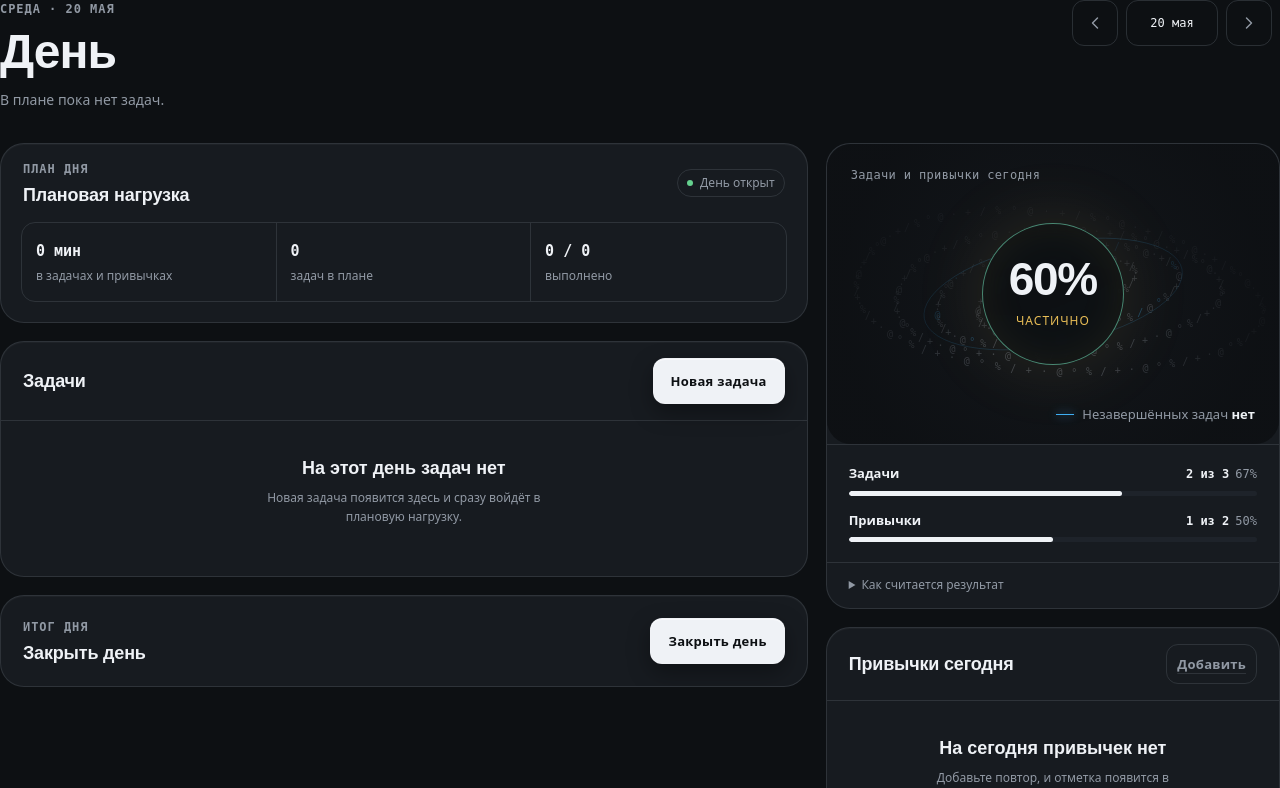
Scenario: DayPage › offers task creation from the tasks card header
The image size is (1280, 788).
Click the button with aria-label "добавить задачу" at (719, 381), box [652, 358, 785, 404]
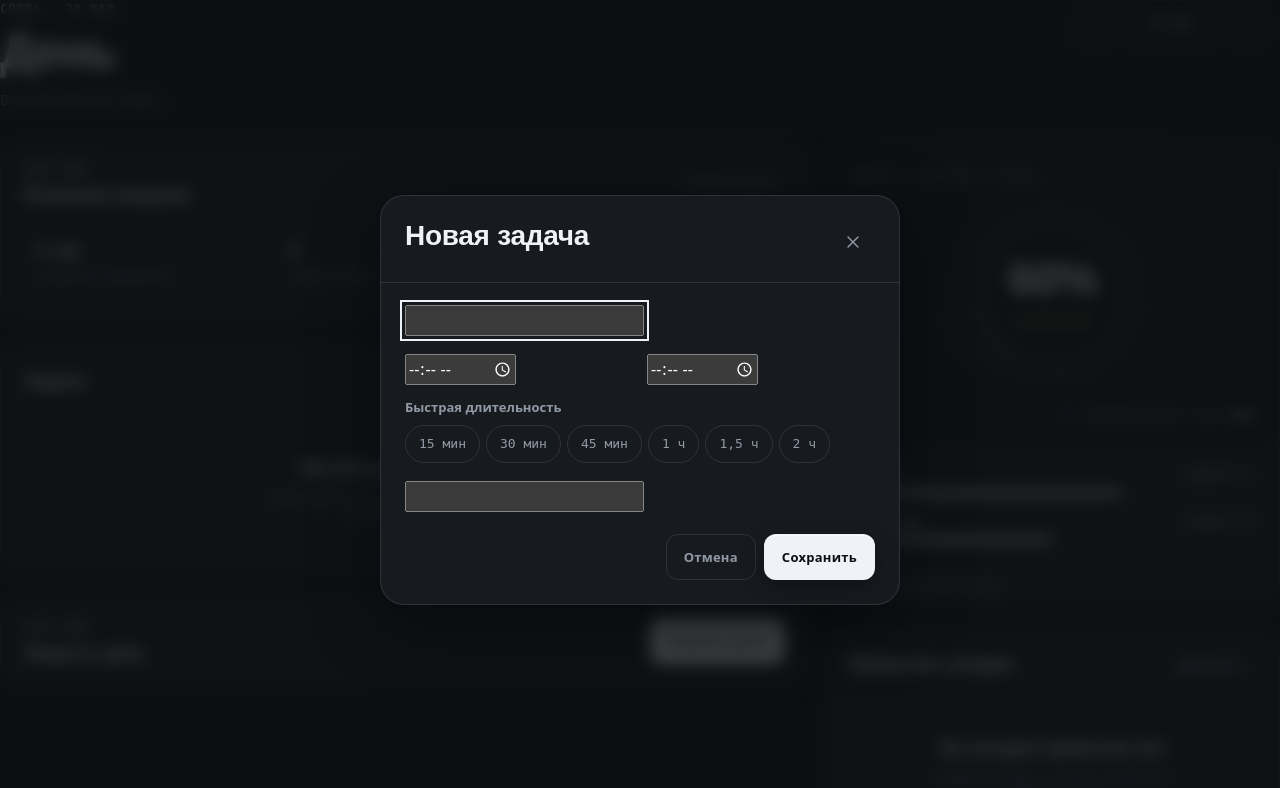
Result: the dialog "Новая задача" is shown at [380, 195, 900, 605]
